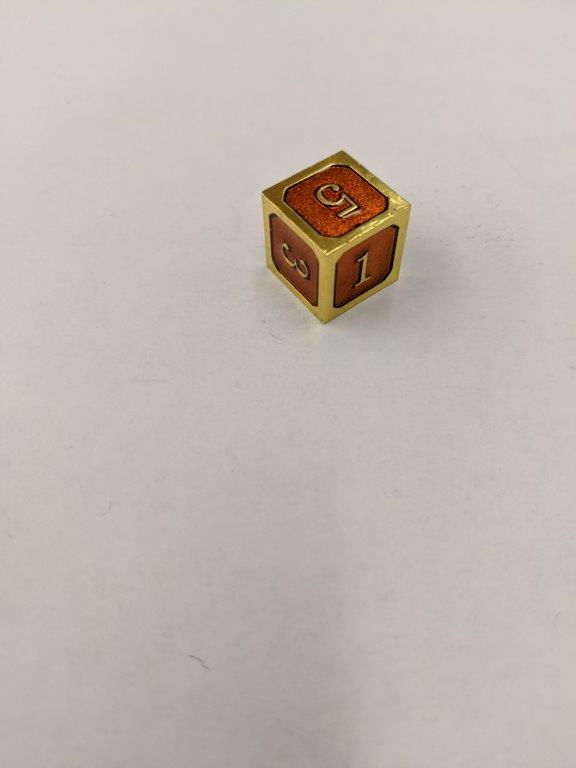d6-5: (261, 149, 410, 324)
